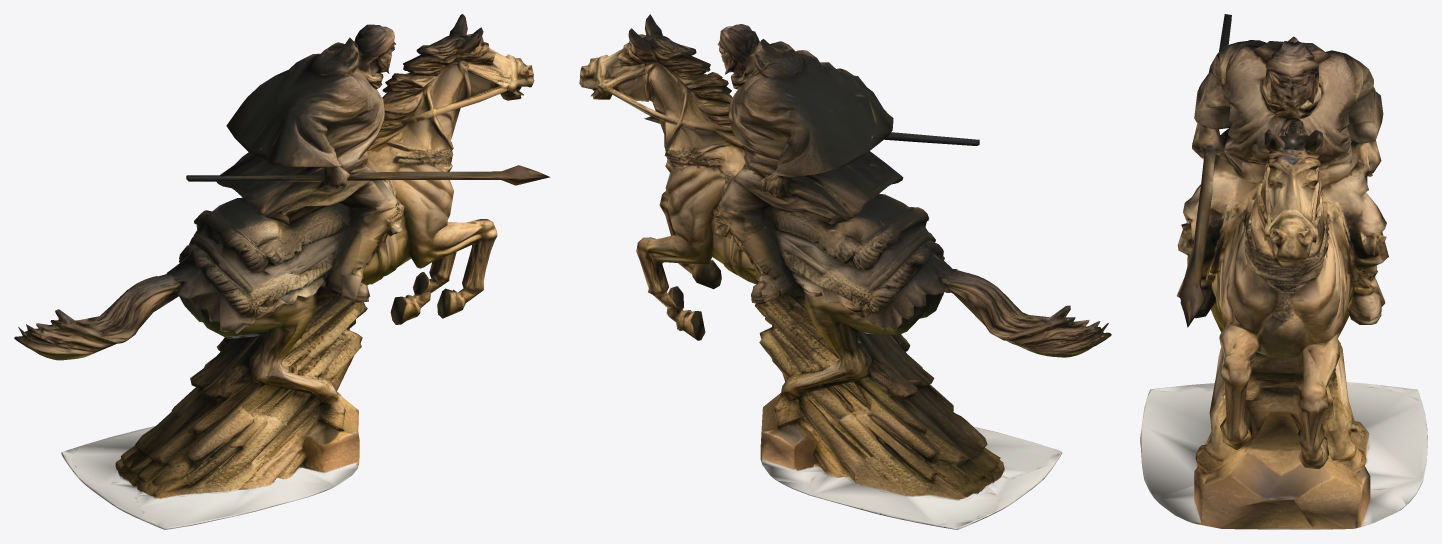
The model's file is bio-guera.opt.glb.
The picture shows the model from 3 angles, left to right: view 1: azimuth 30°, elevation 25°; view 2: azimuth 150°, elevation 25°; view 3: azimuth 270°, elevation 25°; orthographic projection. The views are drawn at different scales.
Visible parts, largest first — view 1: node_0; view 2: node_0; view 3: node_0.
Part boxes in pixels (x1,y1,x2,y2): node_0: (14,14,550,529); node_0: (579,14,1111,529); node_0: (1140,14,1427,529).
Size of the model in its own units: 1.1 by 0.8057 by 0.4081.
Materials: 1 (1 with a texture image).
